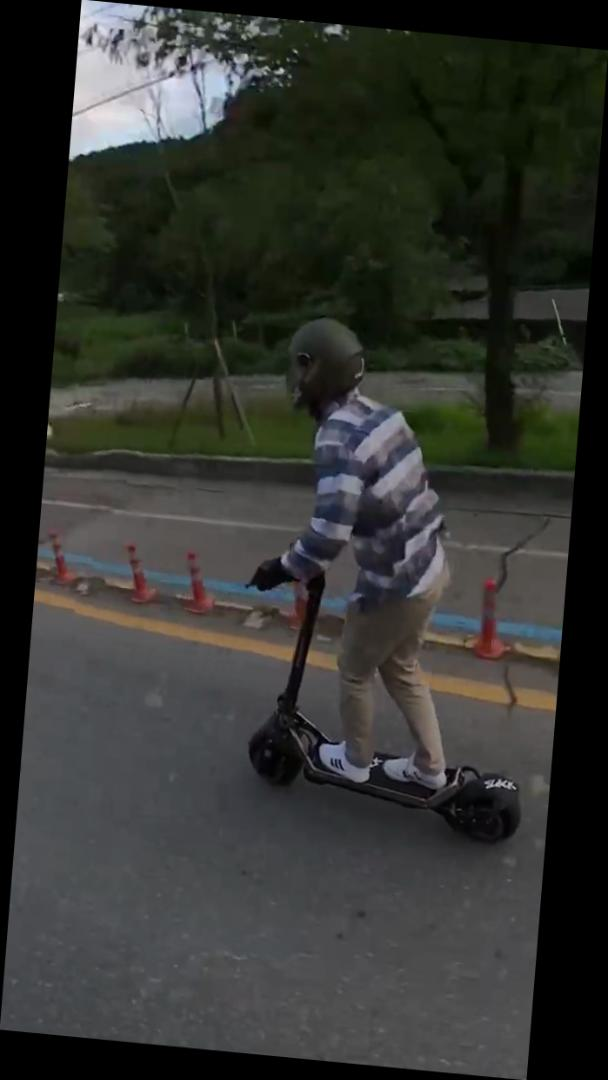helmet: (222, 309, 564, 851)
